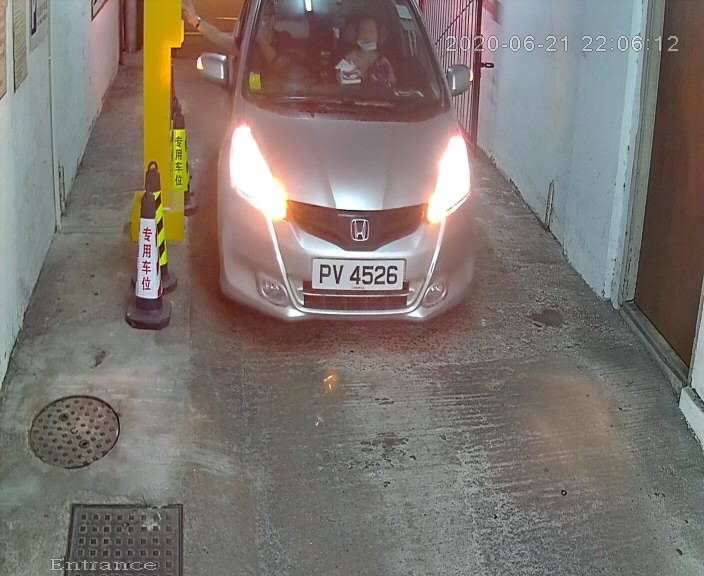privatecar: (186, 4, 480, 361)
